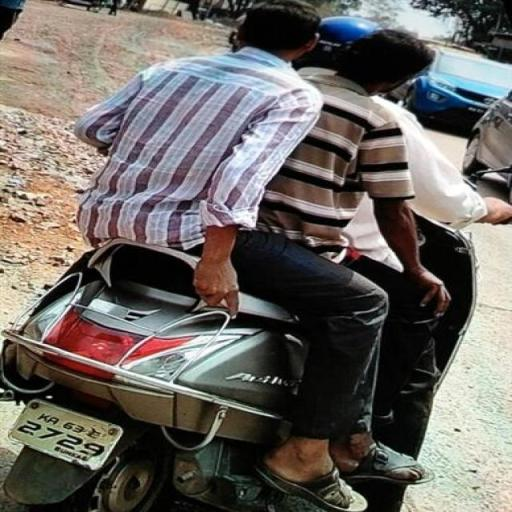tripple riding: (66, 1, 466, 243)
